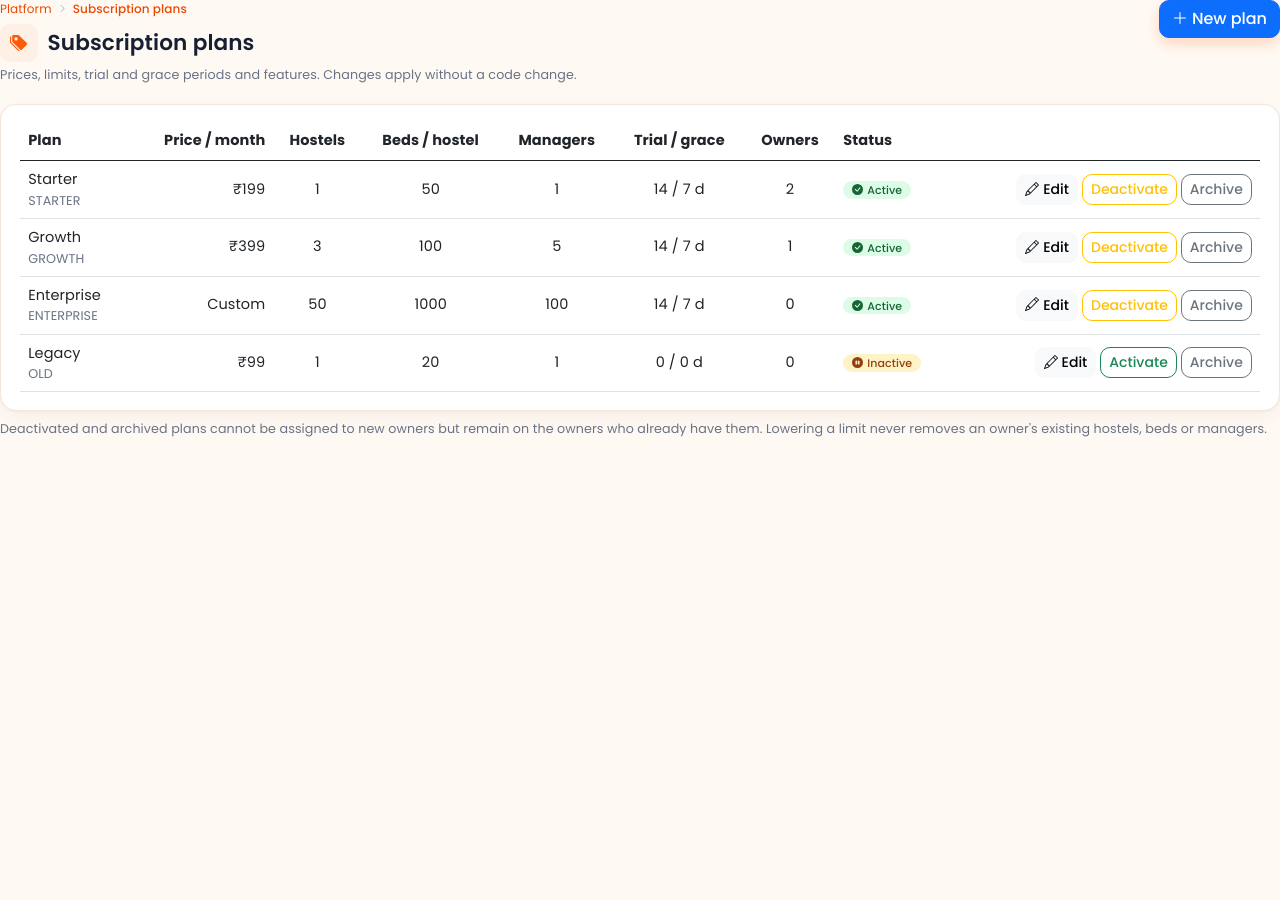
Test case: out-of-range numbers are rejected before saving
Click the button "Edit" in the row of "₹399".
click(1047, 247)  # box [1016,232,1078,263]
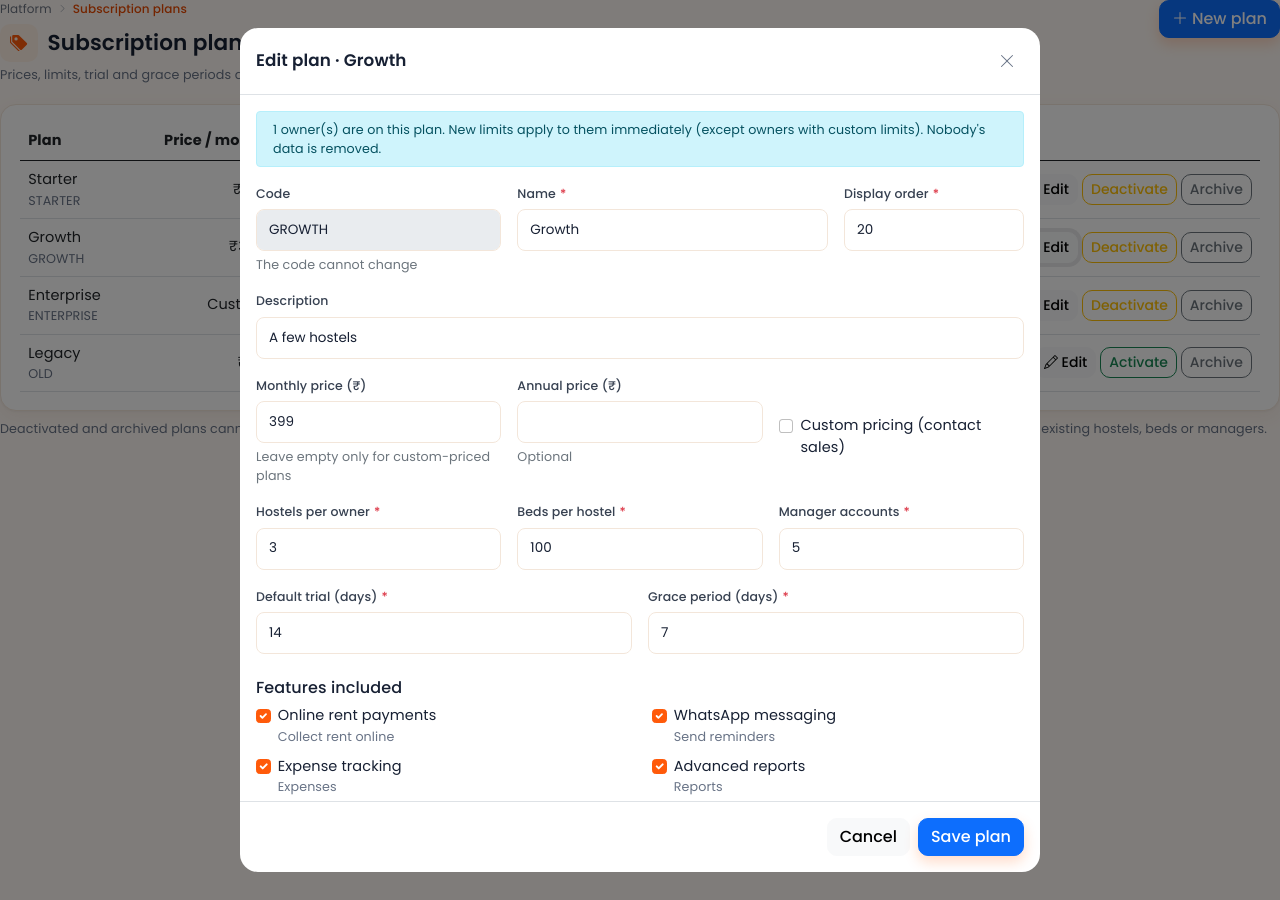
Replace the text in the number field labelled "Hostels per owner*" with "0" at (379, 548), box [256,528,501,570]
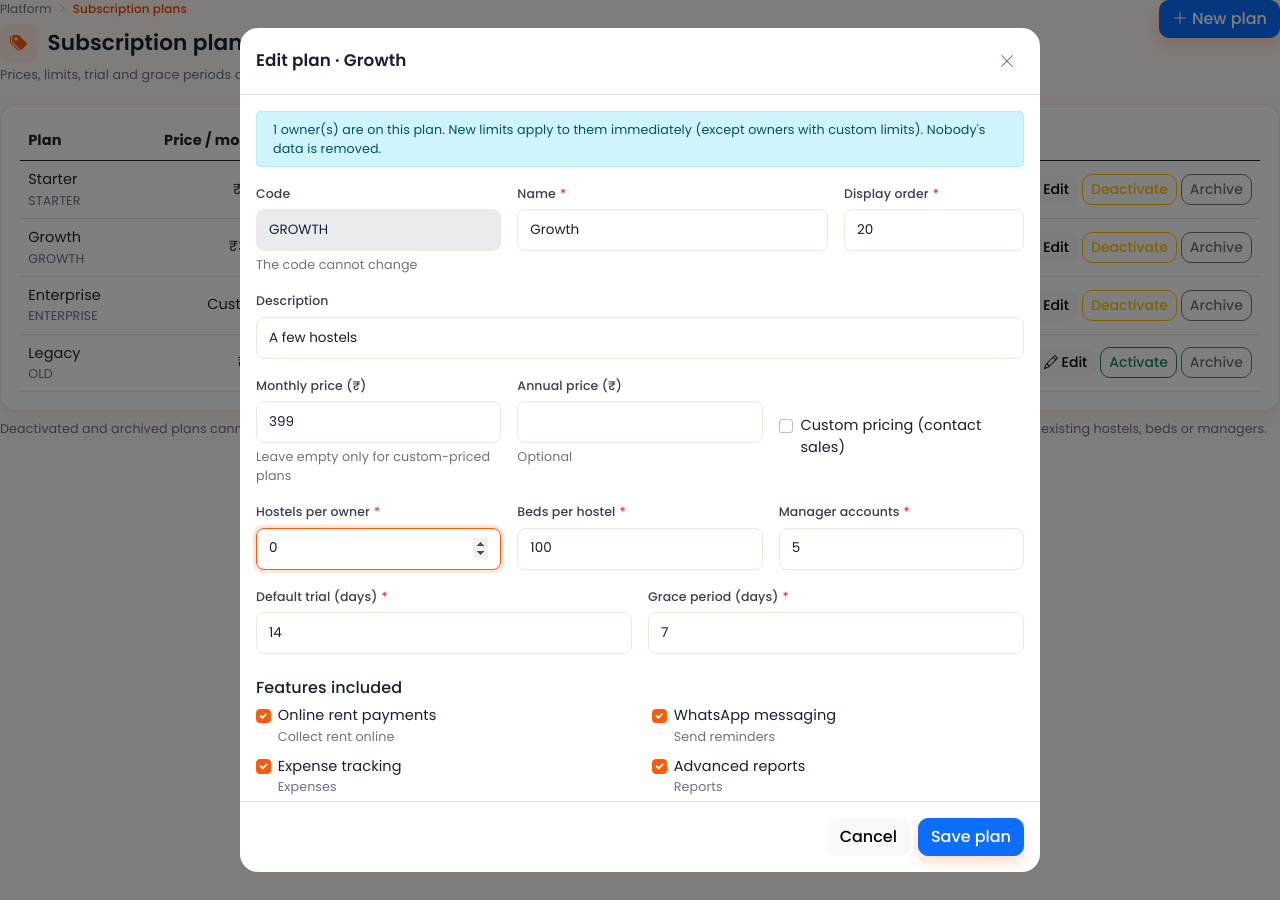
Click the button "Save plan".
click(971, 837)  # box [918,818,1024,856]
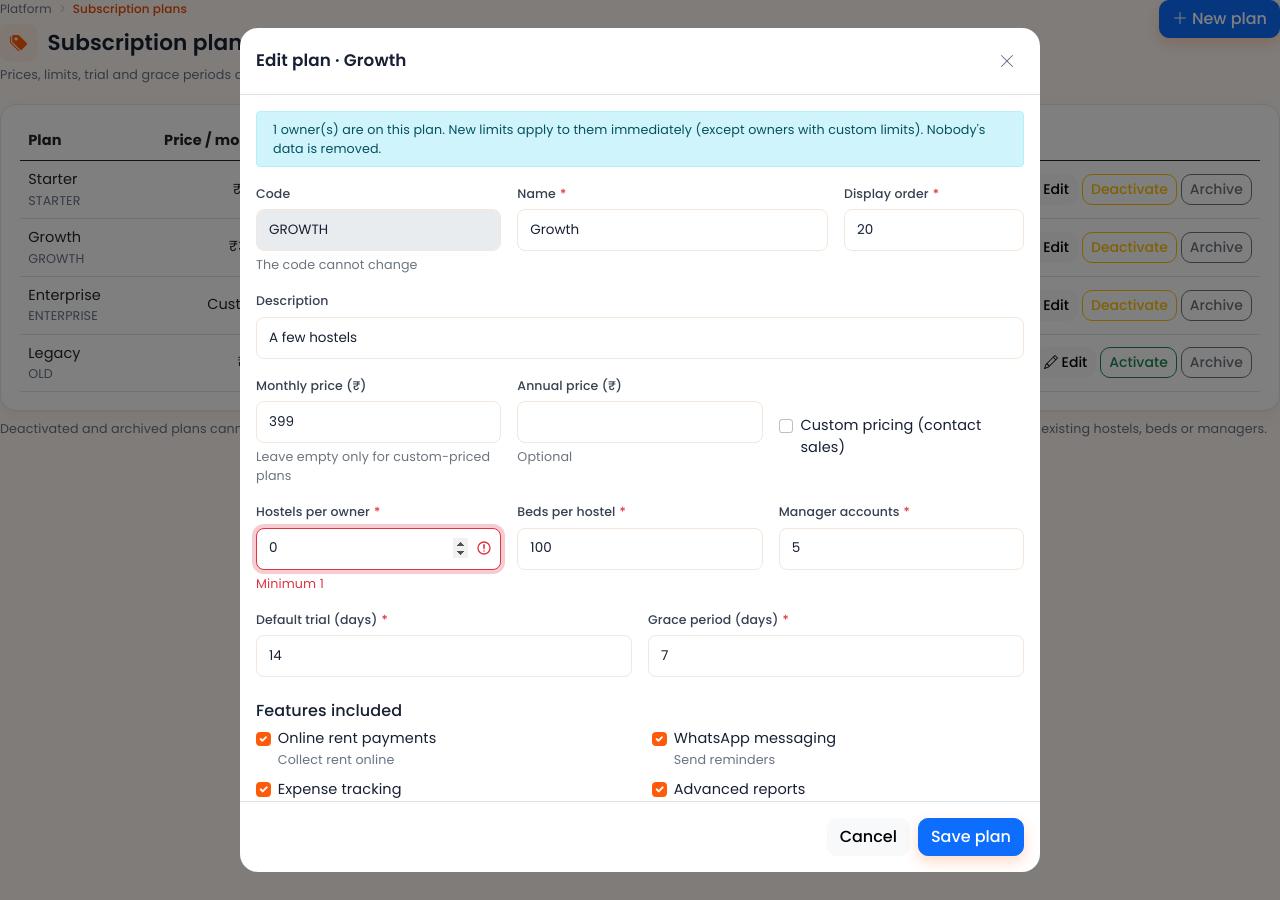
Check: the text "Minimum 1" is shown, box [256,574,324,592]
